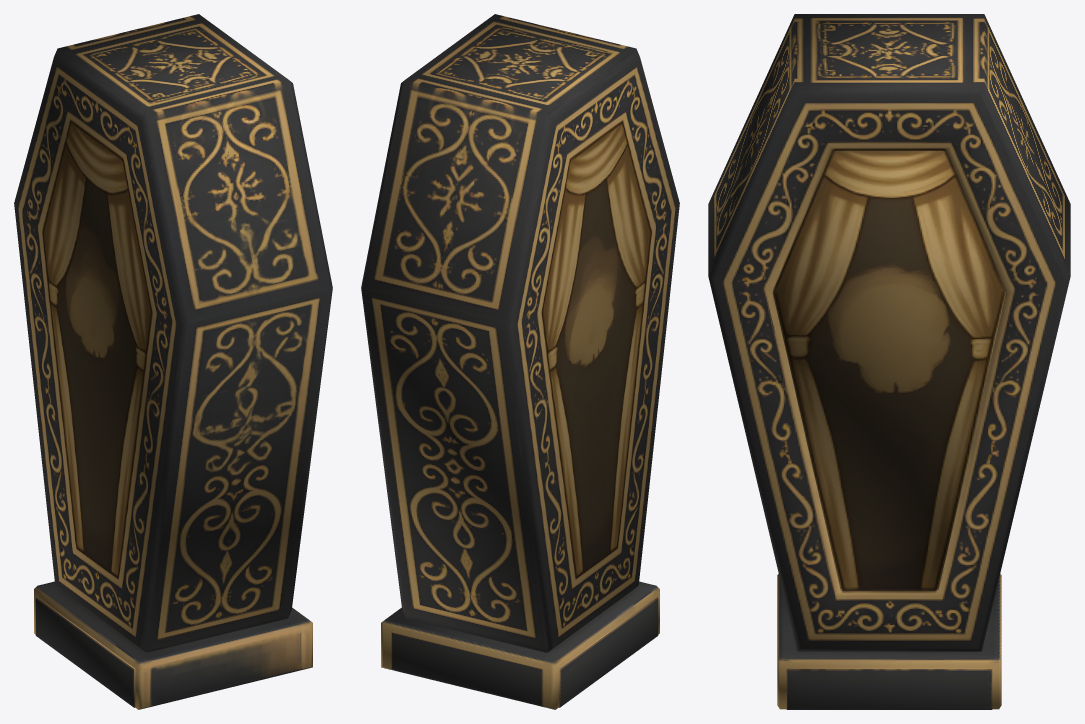
File: tomb_shadowplay_tripo.glb
3 renders of one model, left to right at view 1: azimuth 30°, elevation 25°; view 2: azimuth 150°, elevation 25°; view 3: azimuth 270°, elevation 25°, orthographic. The views are drawn at different scales.
Visible parts, largest first — view 1: tripo_node_94ed2a56-f861-4ccc-90ea-128e090a2ac7; view 2: tripo_node_94ed2a56-f861-4ccc-90ea-128e090a2ac7; view 3: tripo_node_94ed2a56-f861-4ccc-90ea-128e090a2ac7.
Part boxes in pixels (x1,y1,x2,y2): tripo_node_94ed2a56-f861-4ccc-90ea-128e090a2ac7: (14, 14, 332, 709); tripo_node_94ed2a56-f861-4ccc-90ea-128e090a2ac7: (361, 14, 679, 709); tripo_node_94ed2a56-f861-4ccc-90ea-128e090a2ac7: (708, 14, 1070, 709).
Bounding box in the file's own units: 0.3184 × 0.998 × 0.5332.
1 material, 1 textured.
